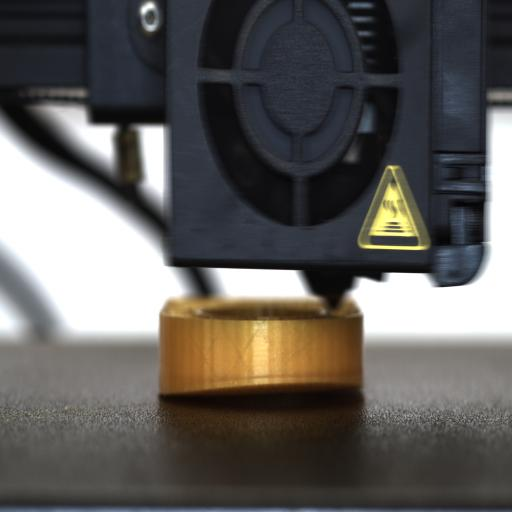warp: (158, 374, 356, 399)
